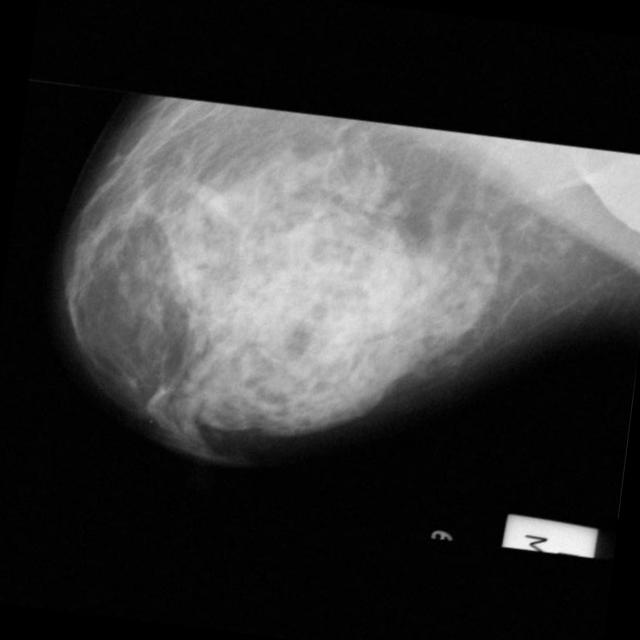ARCH: (316, 164, 401, 248)
